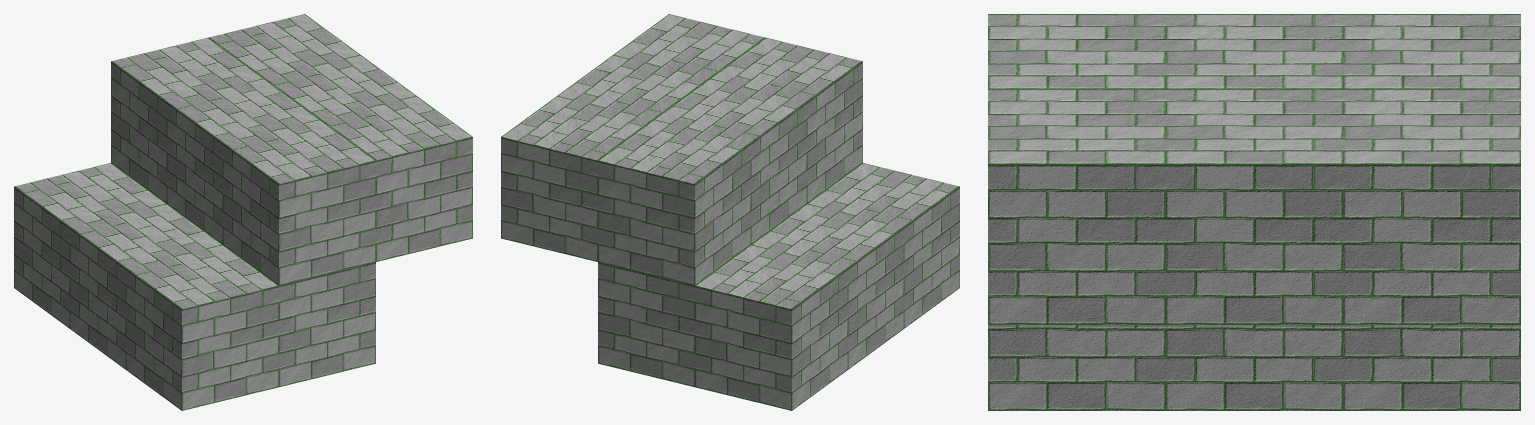
The model's file is Z-Platform.fbx.
3 renders of one model, left to right at view 1: azimuth 30°, elevation 25°; view 2: azimuth 150°, elevation 25°; view 3: azimuth 270°, elevation 25°, orthographic. The views are drawn at different scales.
Visible parts, largest first — view 1: Cube.001; view 2: Cube.001; view 3: Cube.001.
Boxes of the visible parts, <box> form: Cube.001: <box>14,14,472,410</box>; Cube.001: <box>501,14,959,410</box>; Cube.001: <box>988,14,1520,410</box>.
Size of the model in its own units: 600 by 400 by 600.
